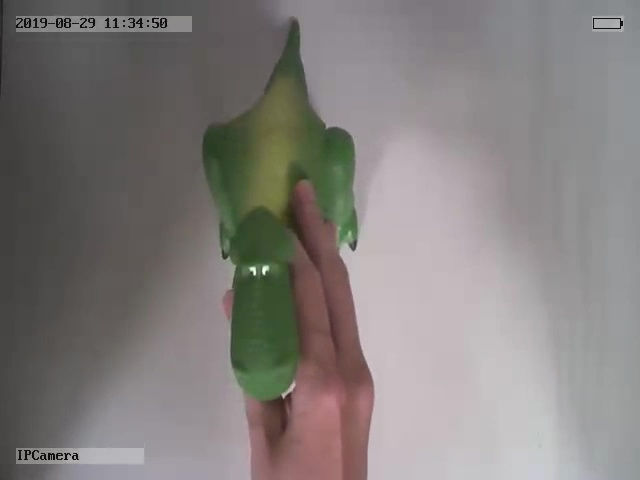rex: (200, 16, 359, 399)
